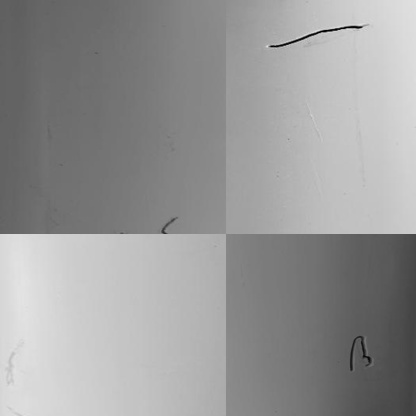fengxi: (258, 24, 377, 47), (340, 328, 383, 376), (159, 216, 177, 235)
